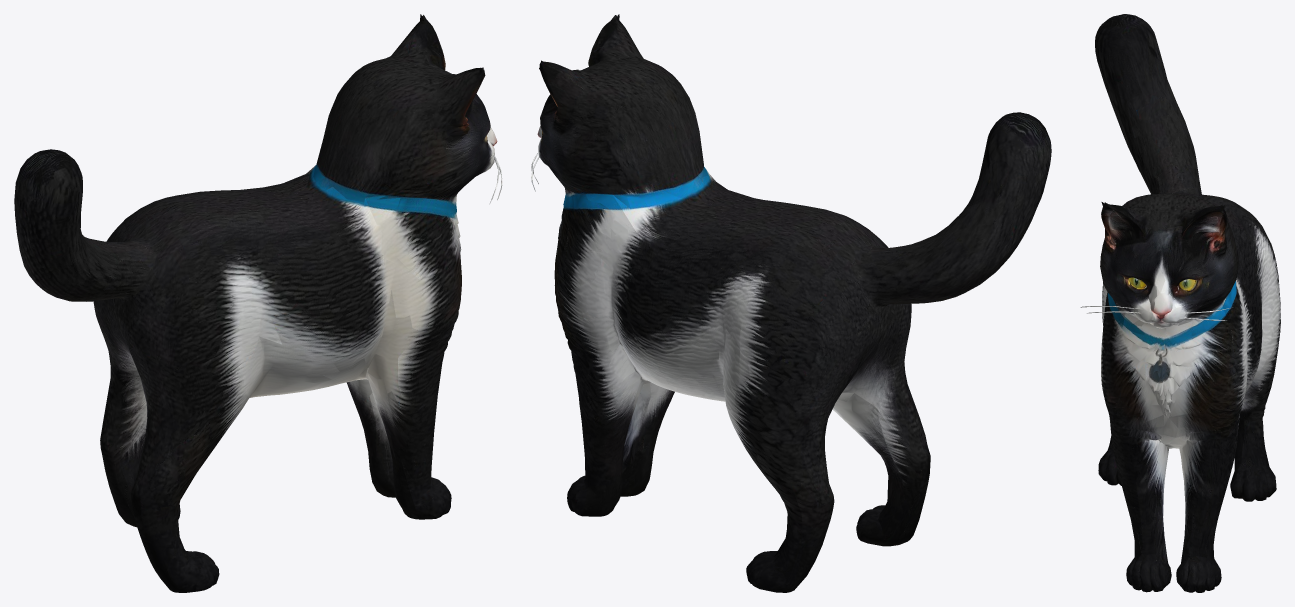
Rendered from DIPLOMOG.glb.
The picture shows the model from 3 angles, left to right: view 1: azimuth 30°, elevation 25°; view 2: azimuth 150°, elevation 25°; view 3: azimuth 270°, elevation 25°; orthographic projection. The views are drawn at different scales.
Visible parts, largest first — view 1: fit; view 2: fit; view 3: fit.
Part boxes in pixels (left/top/right/bottom): fit: left=14, top=14, right=502, bottom=592; fit: left=531, top=14, right=1051, bottom=592; fit: left=1080, top=14, right=1280, bottom=592.
Bounding box in the file's own units: 1.12 × 1 × 0.4508.
Materials: 1 (1 with a texture image).
